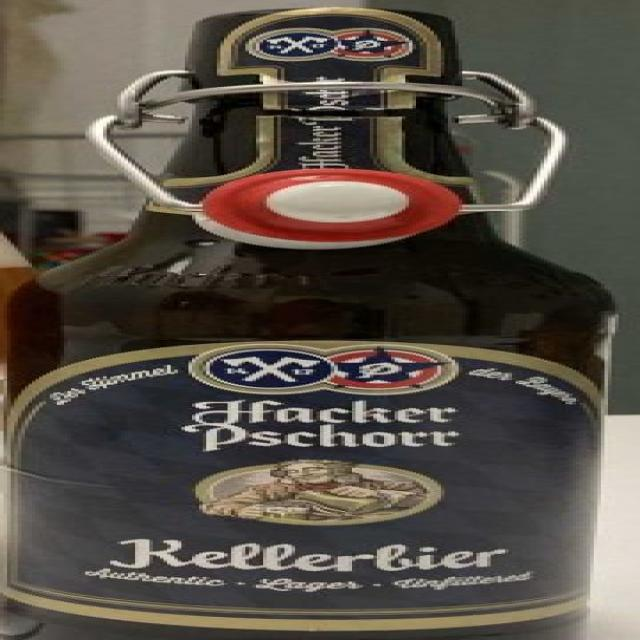Hacker Pschorr Kellerbier: (3, 0, 640, 640)
